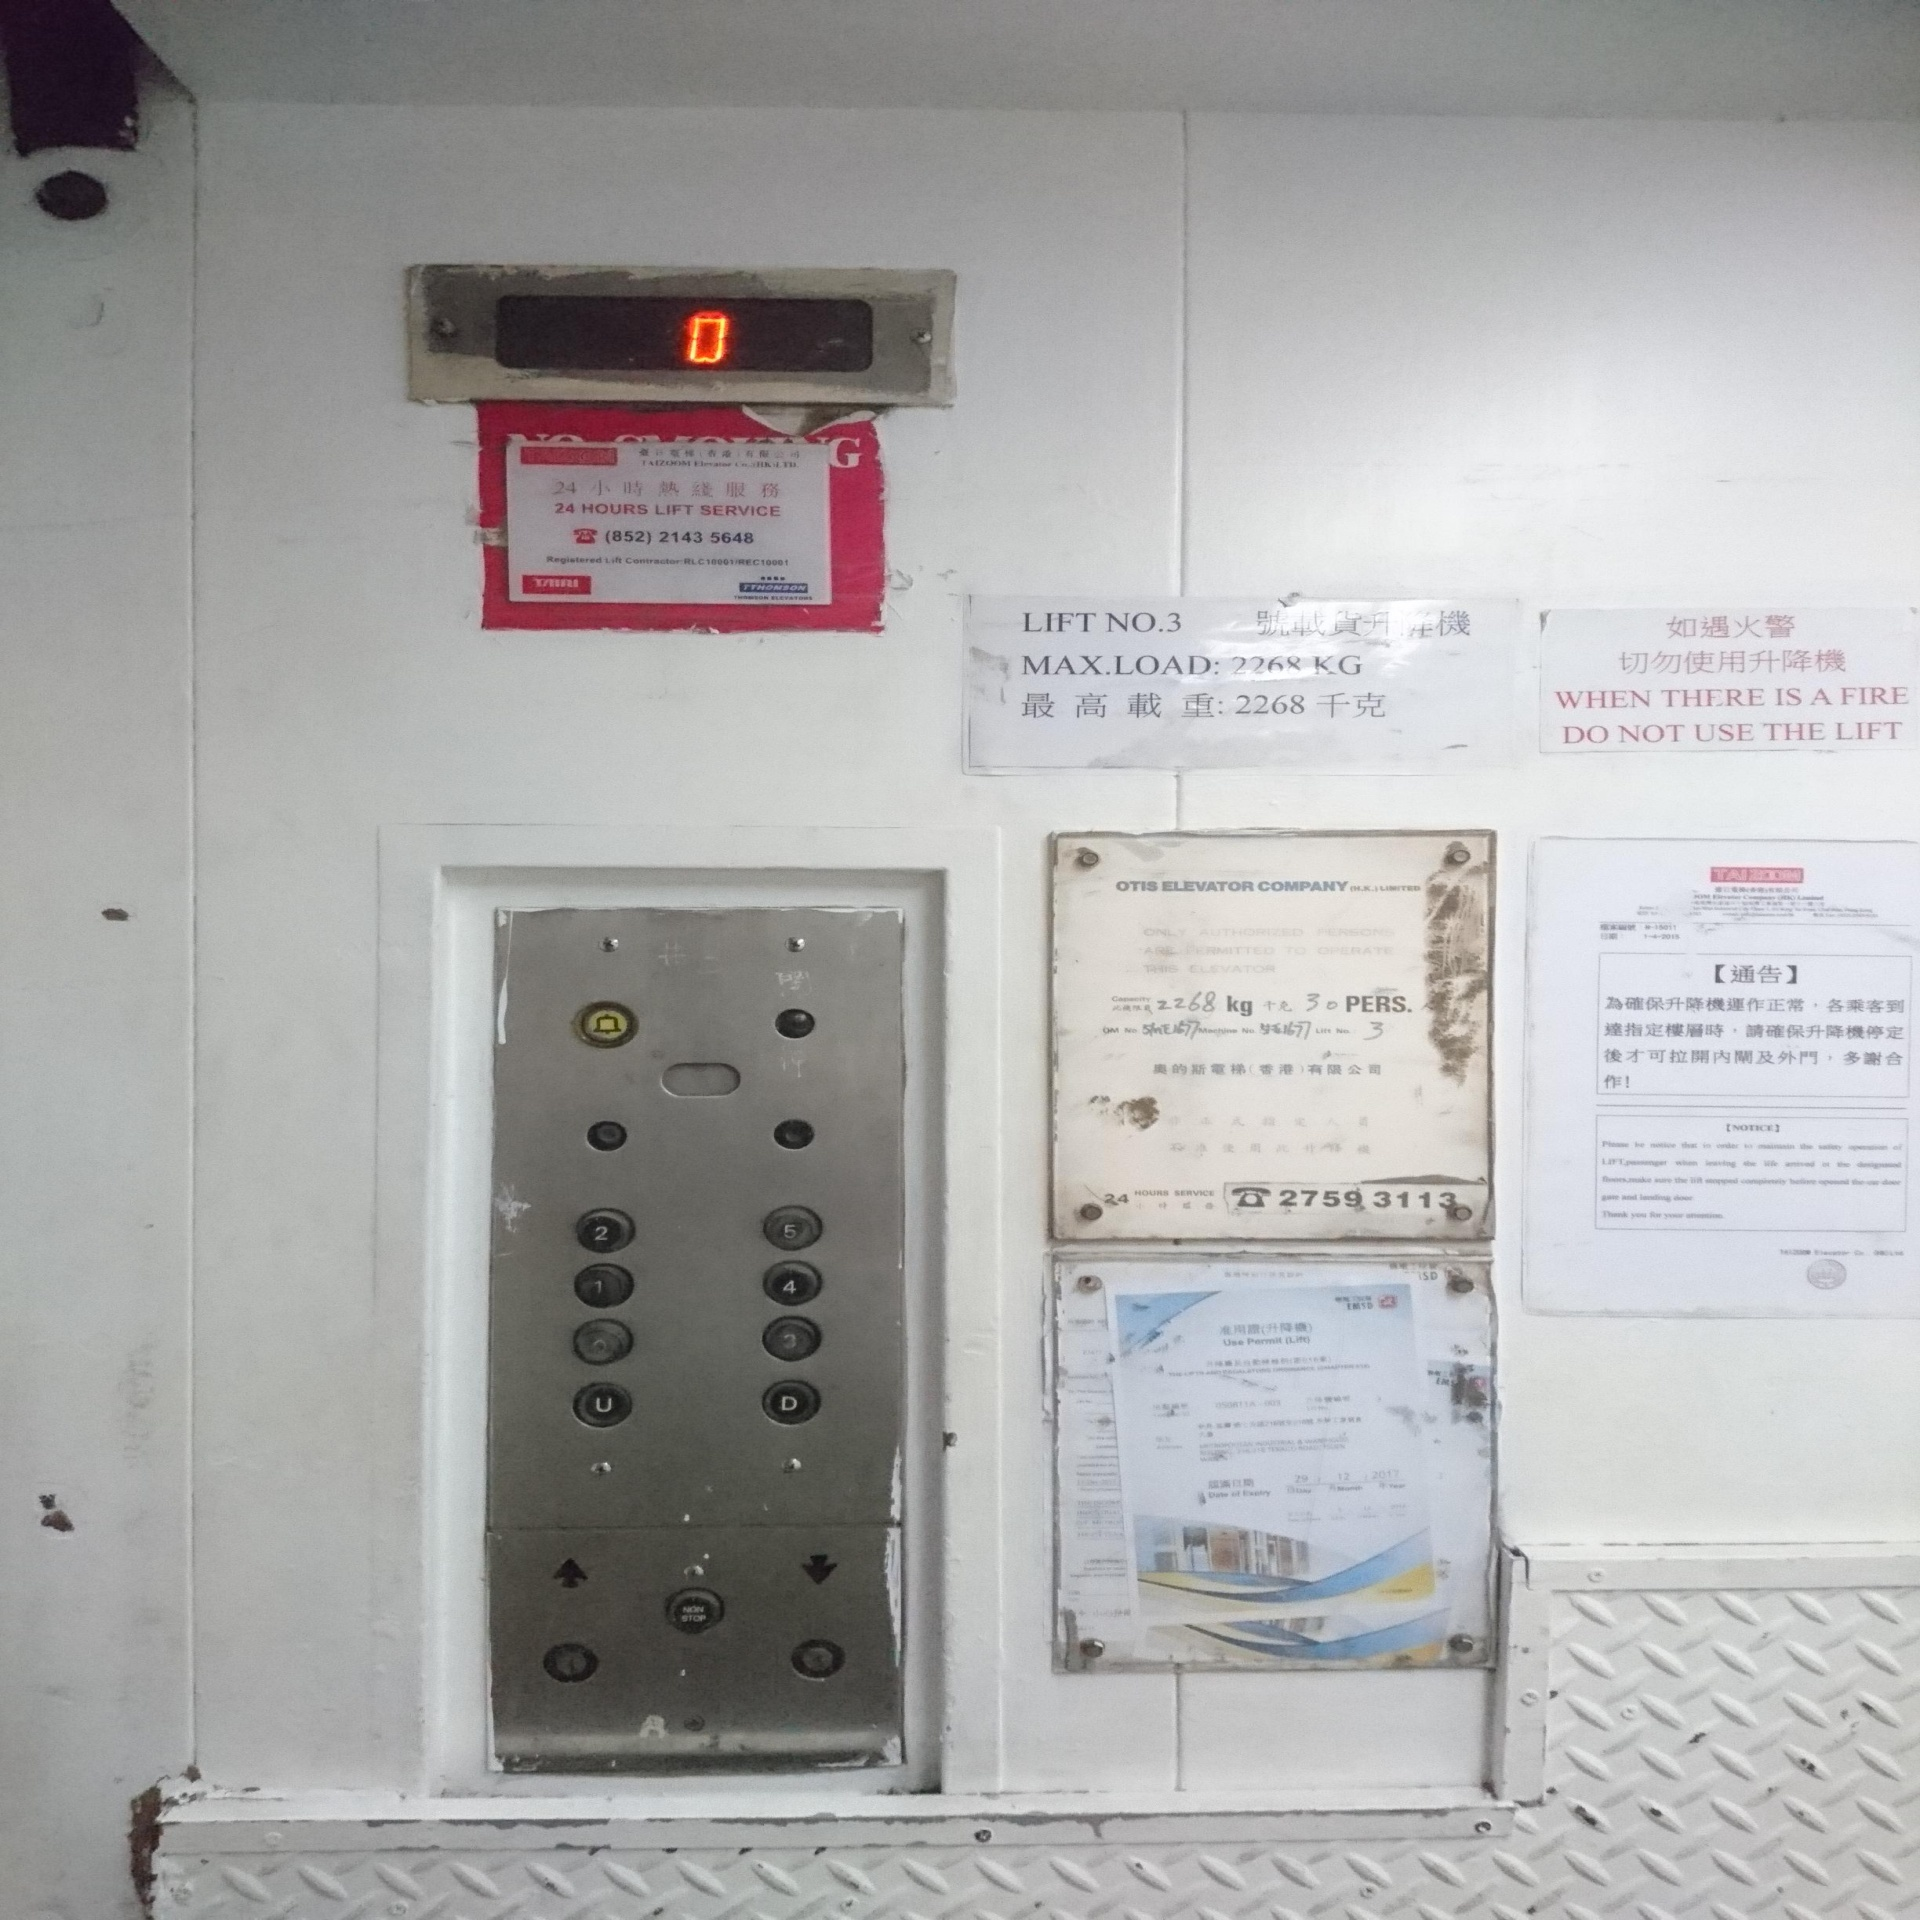0: (571, 1320, 636, 1366)
1: (571, 1262, 635, 1310)
2: (573, 1208, 635, 1255)
3: (761, 1315, 826, 1366)
4: (760, 1261, 823, 1308)
5: (760, 1199, 826, 1254)
D: (760, 1373, 823, 1428)
U: (570, 1378, 636, 1431)
alarm: (573, 1000, 640, 1050)
keyhole: (789, 1635, 847, 1684), (542, 1639, 601, 1686), (585, 1122, 628, 1153), (774, 1118, 816, 1150)
led: (494, 288, 877, 380)
text: (668, 1588, 724, 1633)
